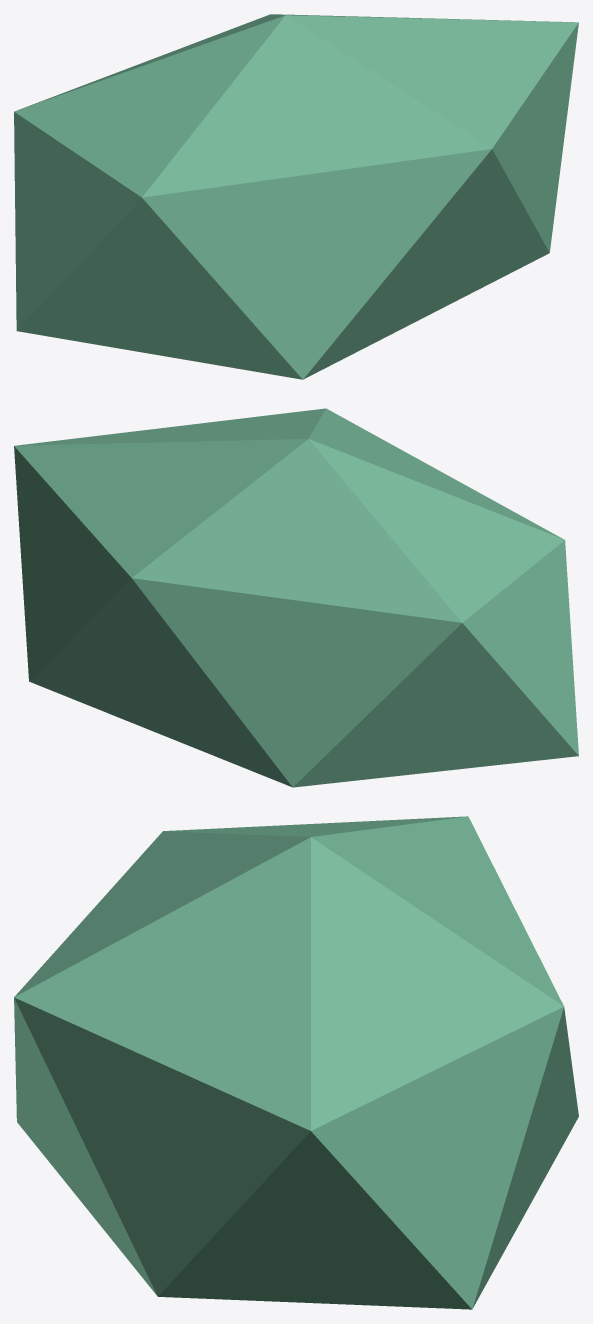
The model's file is item_073_copper_ore_s.glb.
3 renders of one model, top to bottom at view 1: azimuth 30°, elevation 25°; view 2: azimuth 150°, elevation 25°; view 3: azimuth 270°, elevation 25°, orthographic. The views are drawn at different scales.
Visible parts, largest first — view 1: item_073_copper_ore_s; view 2: item_073_copper_ore_s; view 3: item_073_copper_ore_s.
Part boxes in pixels (x1,y1,x2,y2): item_073_copper_ore_s: (14, 14, 578, 379); item_073_copper_ore_s: (14, 408, 578, 787); item_073_copper_ore_s: (14, 816, 578, 1309).
Size of the model in its own units: 0.327 by 0.1834 by 0.2145.
